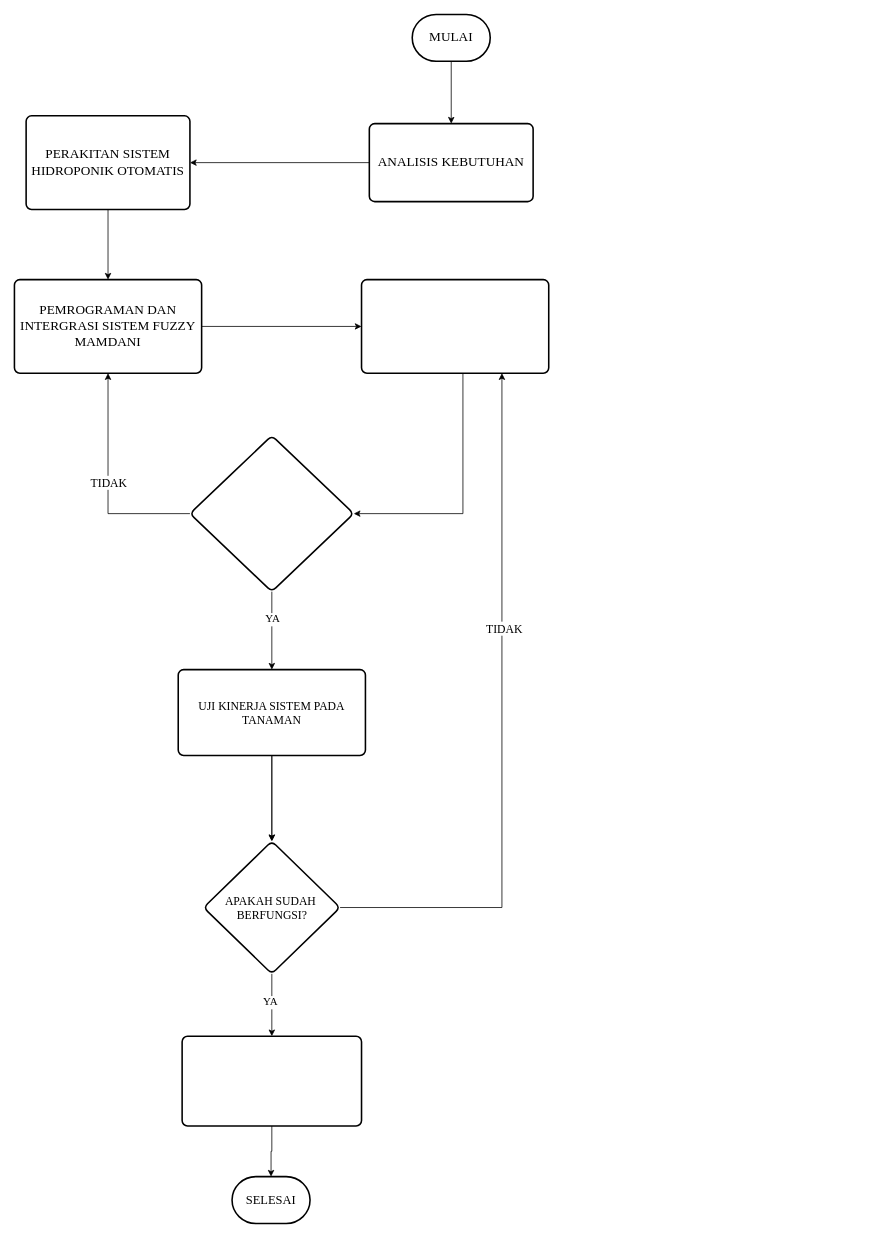
Some shapes in this 881 by 1237 pixel diagram are drawn without their labels. Each missing label, with the centre of its shape:
APAKAH SUDAH SESUAI?: the point at 271,513
EVALUASI KINERJA SISTEM: the point at 271,1080
UJI KALIBRASI: the point at 454,326
